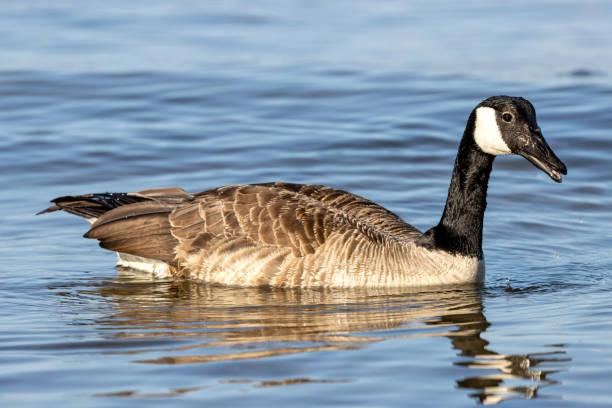Canadian-Goose: (41, 90, 566, 285)
